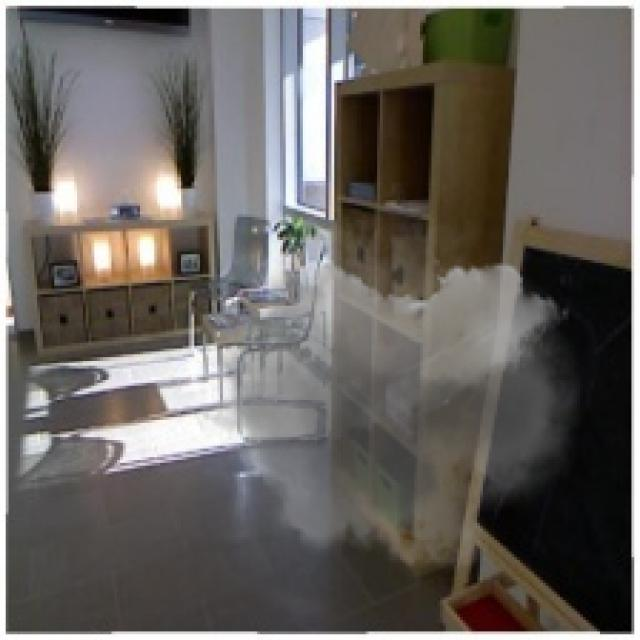smoke: (188, 180, 583, 589)
